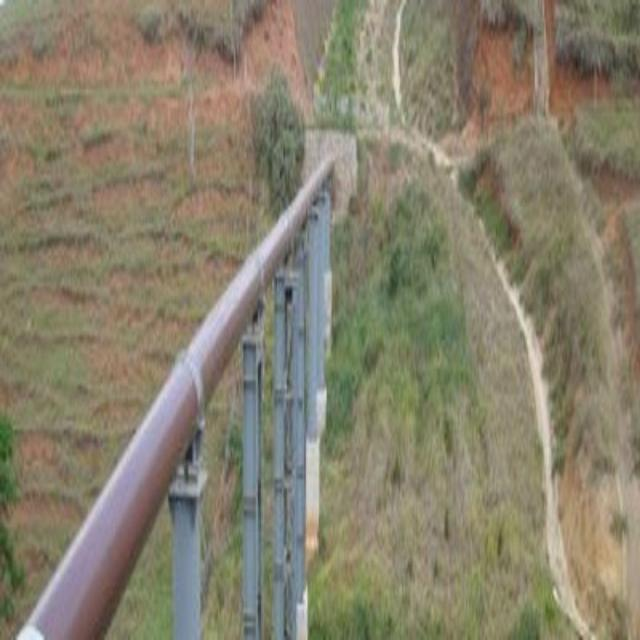gas: (26, 152, 336, 640)
